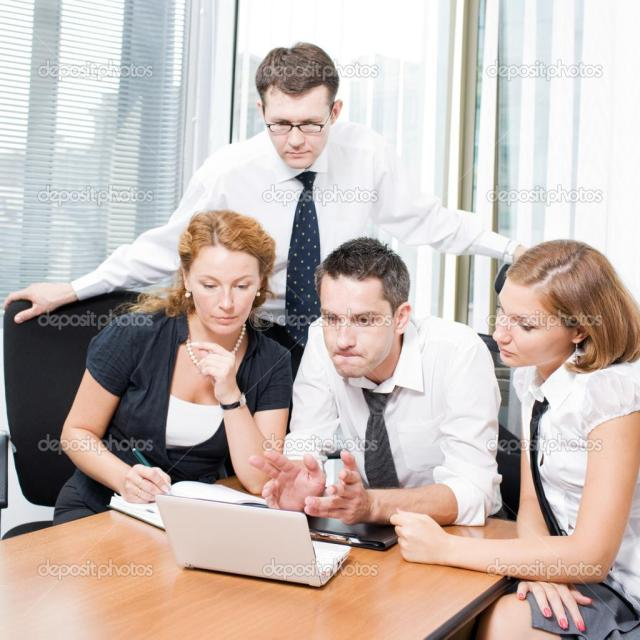Face: (321, 273, 400, 377), (259, 79, 343, 175), (479, 277, 563, 366), (178, 243, 263, 329)
